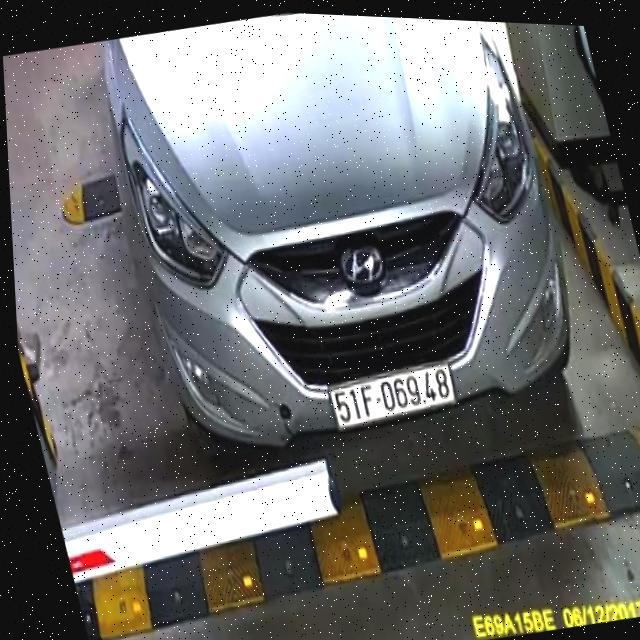car: (84, 4, 614, 506)
plate: (322, 351, 467, 439)
